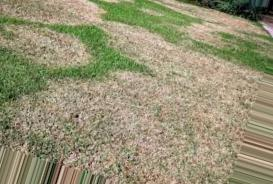patch: (55, 83, 194, 171), (127, 33, 187, 81), (200, 61, 244, 119), (17, 29, 79, 70), (200, 12, 248, 45)
